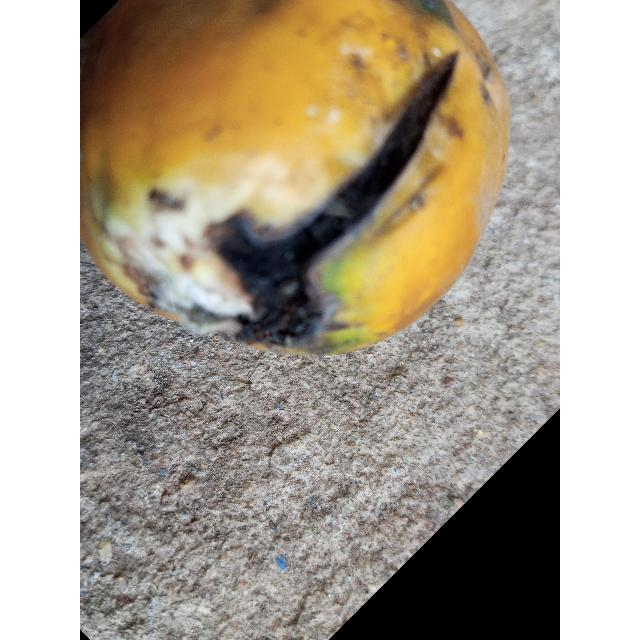damaged: (80, 0, 512, 355)
